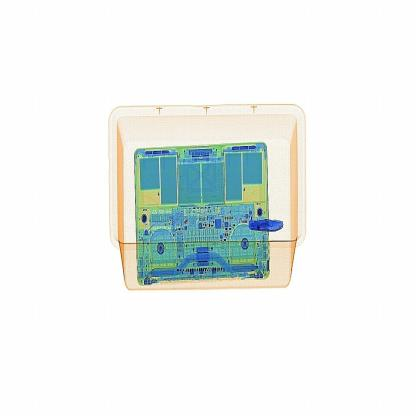knife: (246, 214, 291, 235)
